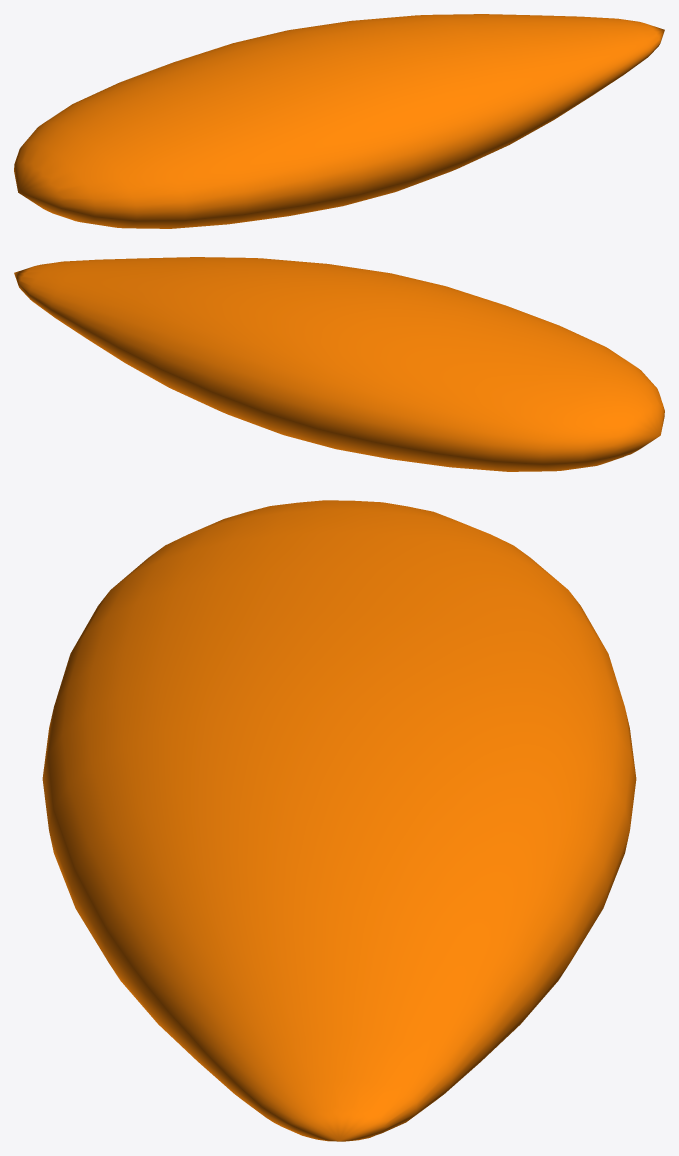
File: Arm_1.fbx
The picture shows the model from 3 angles, top to bottom: view 1: azimuth 30°, elevation 25°; view 2: azimuth 150°, elevation 25°; view 3: azimuth 270°, elevation 25°; orthographic projection. The views are drawn at different scales.
Visible parts, largest first — view 1: Sphere001; view 2: Sphere001; view 3: Sphere001.
Boxes of the visible parts, left/top/right/bottom form: Sphere001: left=14, top=14, right=664, bottom=228; Sphere001: left=14, top=257, right=664, bottom=471; Sphere001: left=42, top=500, right=636, bottom=1141.
Bounding box in the file's own units: 32.04 × 5.83 × 12.74.
